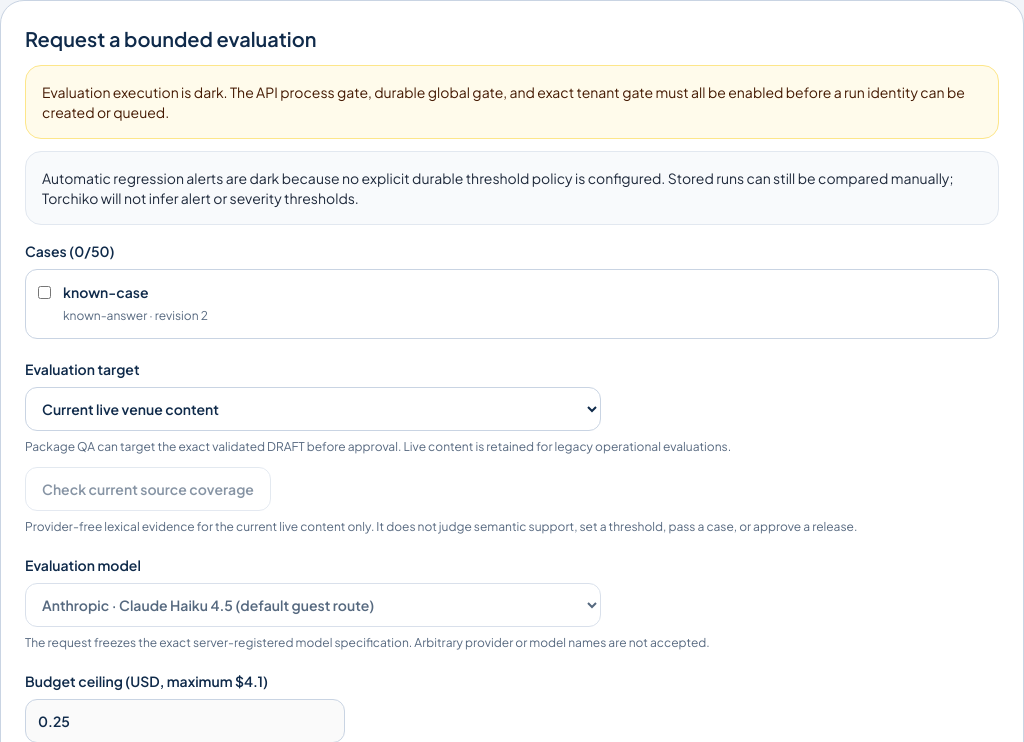
EvaluationRunRequestPanel › shows provider-dark current-source evidence without starting a run
This screenshot has width=1024, height=742.
Click the checkbox: [44, 292] box [38,286,51,299]
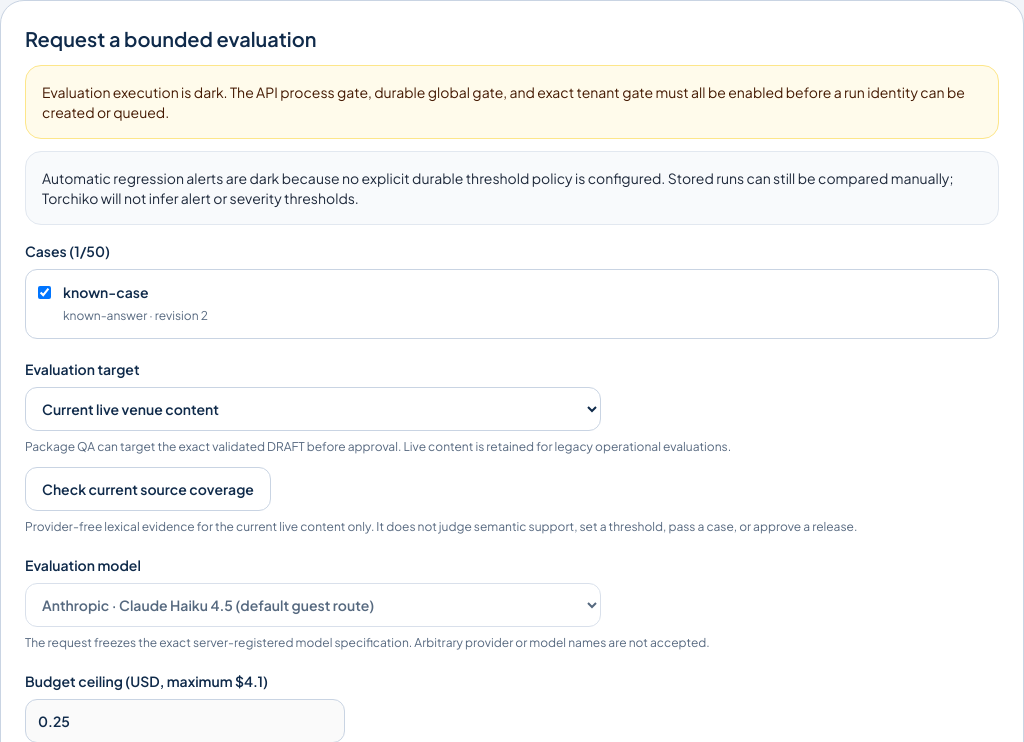
Click the button "Check current source coverage": [148, 489] box [25,467,271,511]
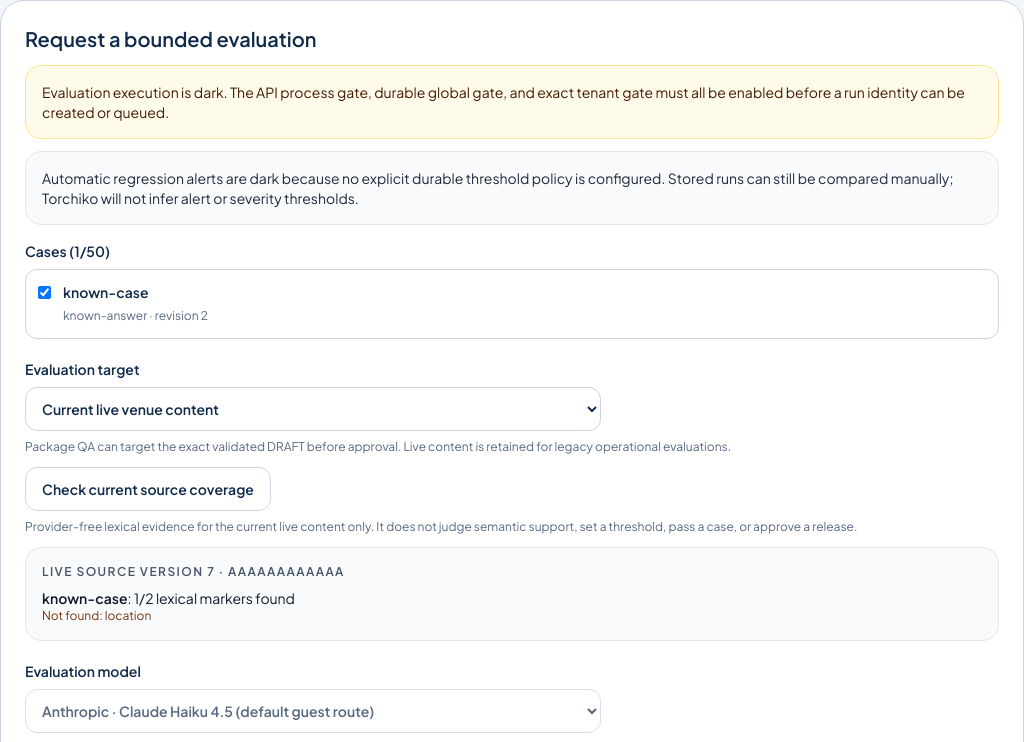
Check: the list item "known-case: 1/2 lexical markers found Not found: location" is shown, box [42,589,295,623]
Check: the text "Not found: location" is shown, box [42,608,151,623]
